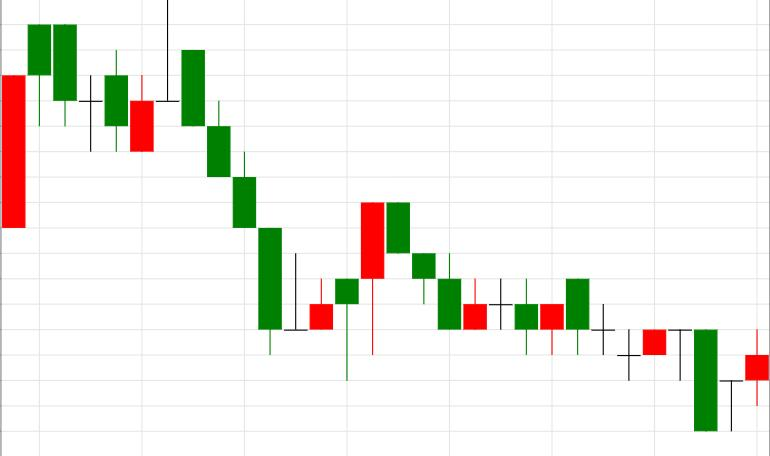three_black_crows_fall: (284, 203, 460, 381)
